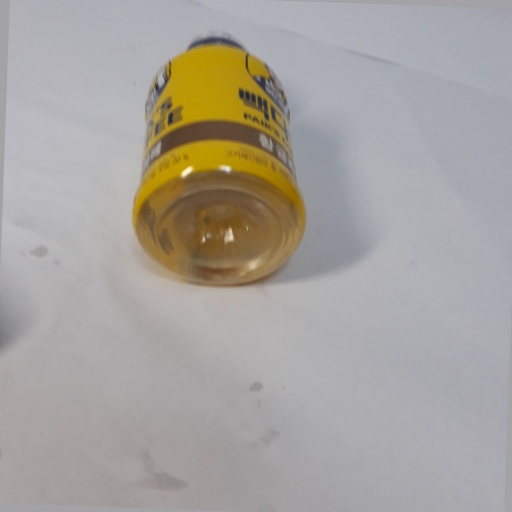Plastic_0: (130, 26, 313, 289)
